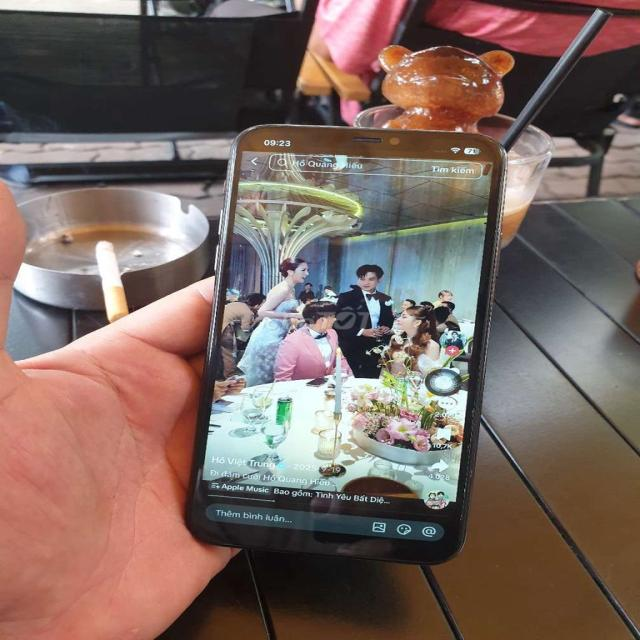gen_11: (188, 125, 506, 562)
